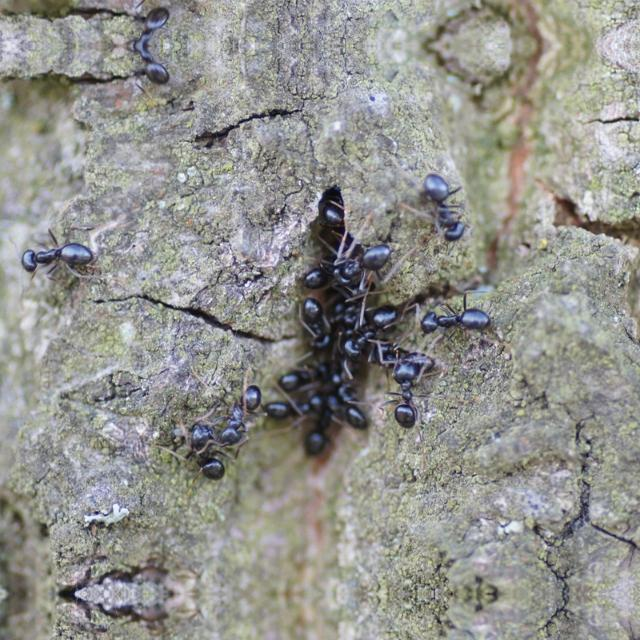Lasius: (7, 214, 115, 302), (414, 151, 476, 257), (408, 294, 499, 352), (334, 296, 408, 364), (176, 410, 234, 496), (328, 217, 396, 289), (108, 46, 195, 98), (215, 370, 267, 452), (108, 0, 194, 46), (386, 363, 436, 435), (260, 376, 328, 424), (329, 364, 375, 432), (293, 282, 337, 352), (276, 338, 332, 388), (298, 402, 342, 461), (305, 246, 337, 294)
